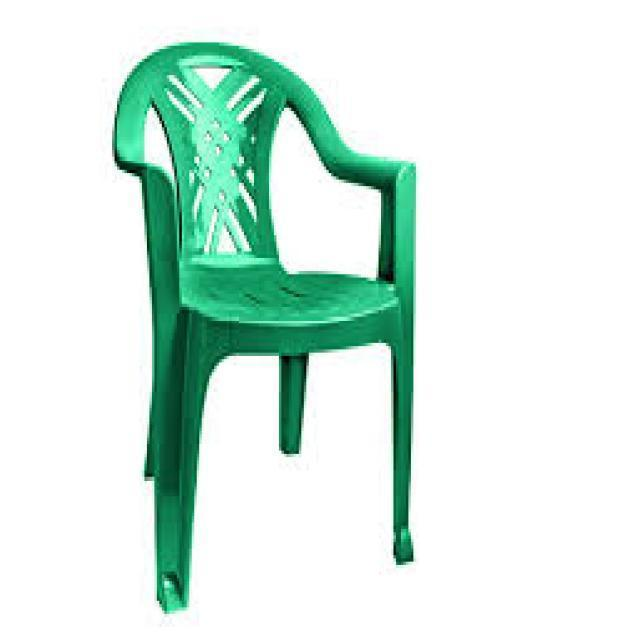chair: (114, 36, 416, 612)
